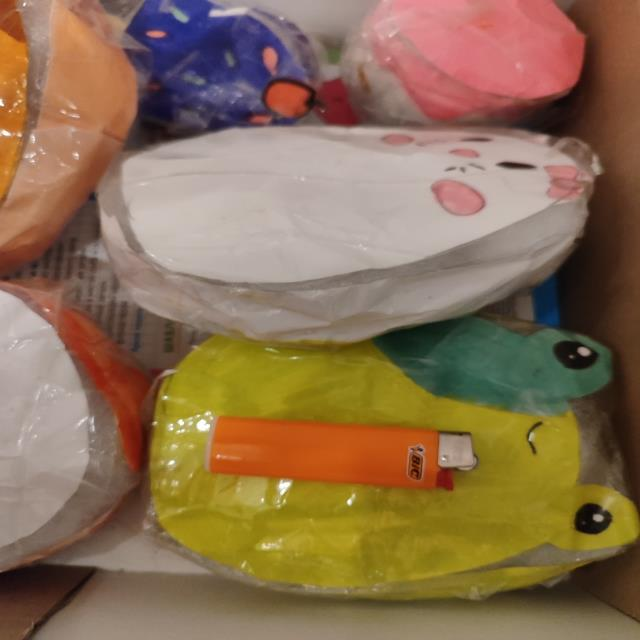lighter: (206, 418, 476, 490)
